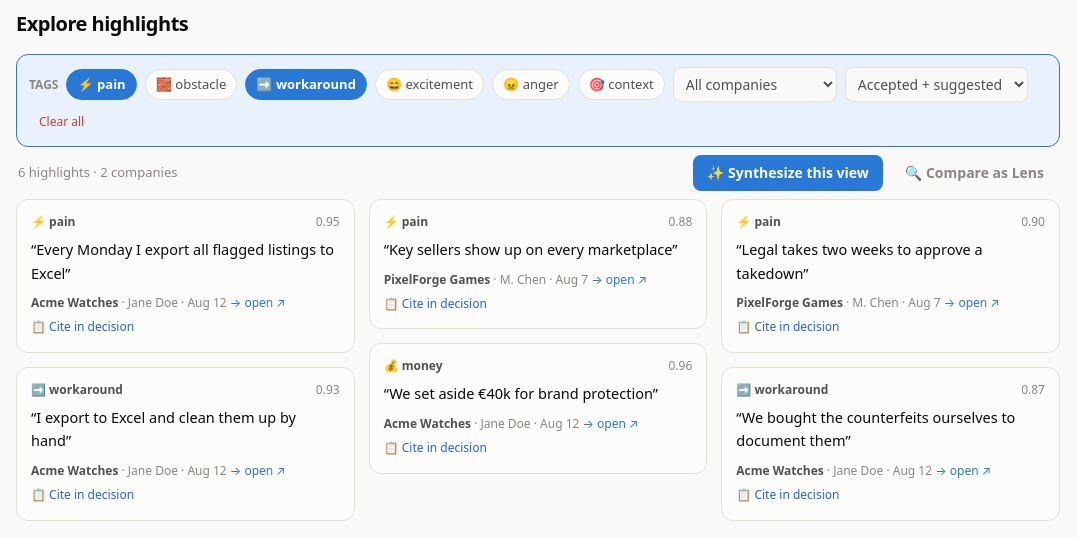
Test: T20: Expandable synthesis themes with evidence quotes › synthesis themes show expandable evidence section that reveals actual highlight quotes
Click the button "✨ Synthesize this view" at [788, 173], box [693,155,883,191]
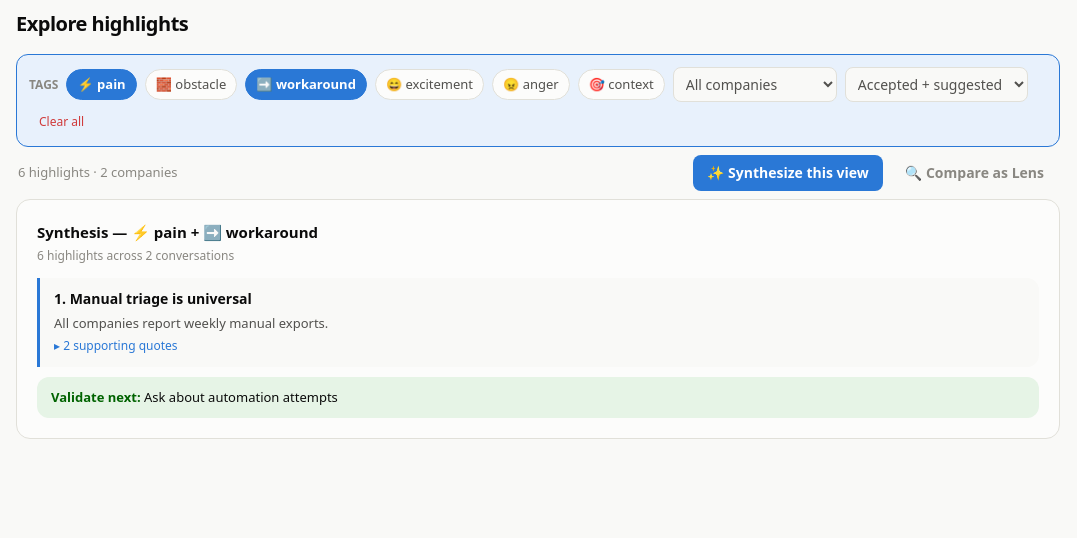
Expected: the text "1. Manual triage is universal" is shown, [54,289,252,308]
Expected: the button "▸ 2 supporting quotes" is shown
Expected: the text "Every Monday I export all flagged listings to Excel" is gone
// Click to expand the evidence quotes
Click the button "▸ 2 supporting quotes" at [116, 346], box [54,338,178,354]
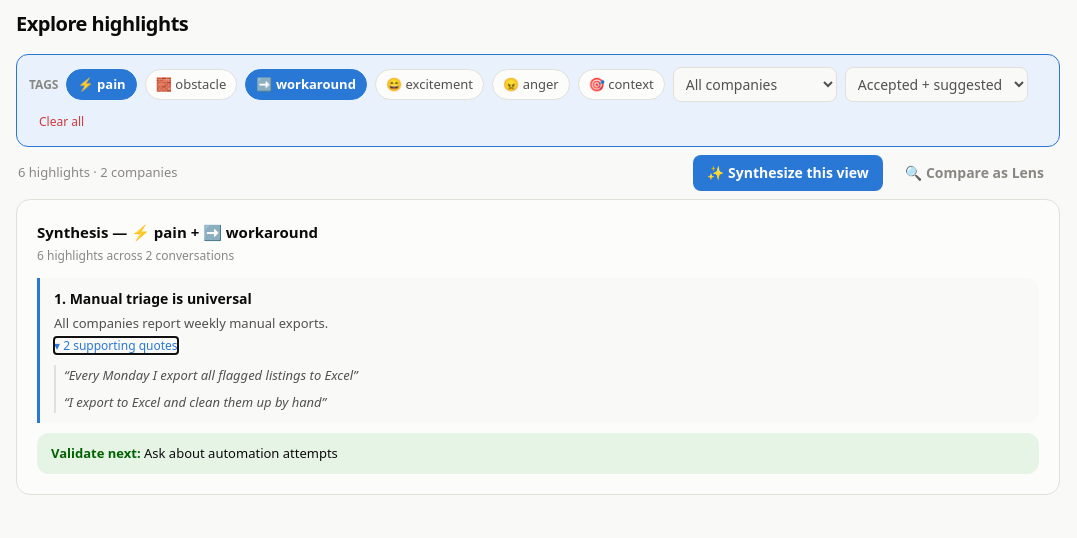
Expected: the text "“Every Monday I export all flagged listings to Excel”" is shown, [64,366,358,384]
Expected: the text "“I export to Excel and clean them up by hand”" is shown, [64,393,326,411]
